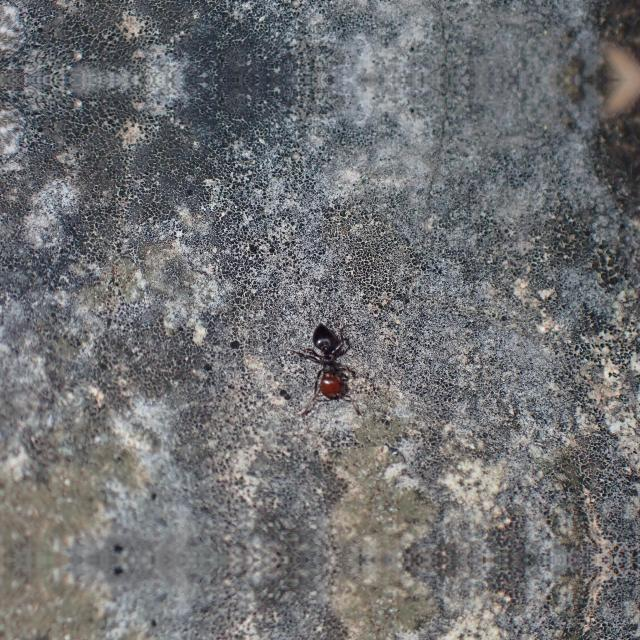Crematogaster: (294, 312, 352, 406)
